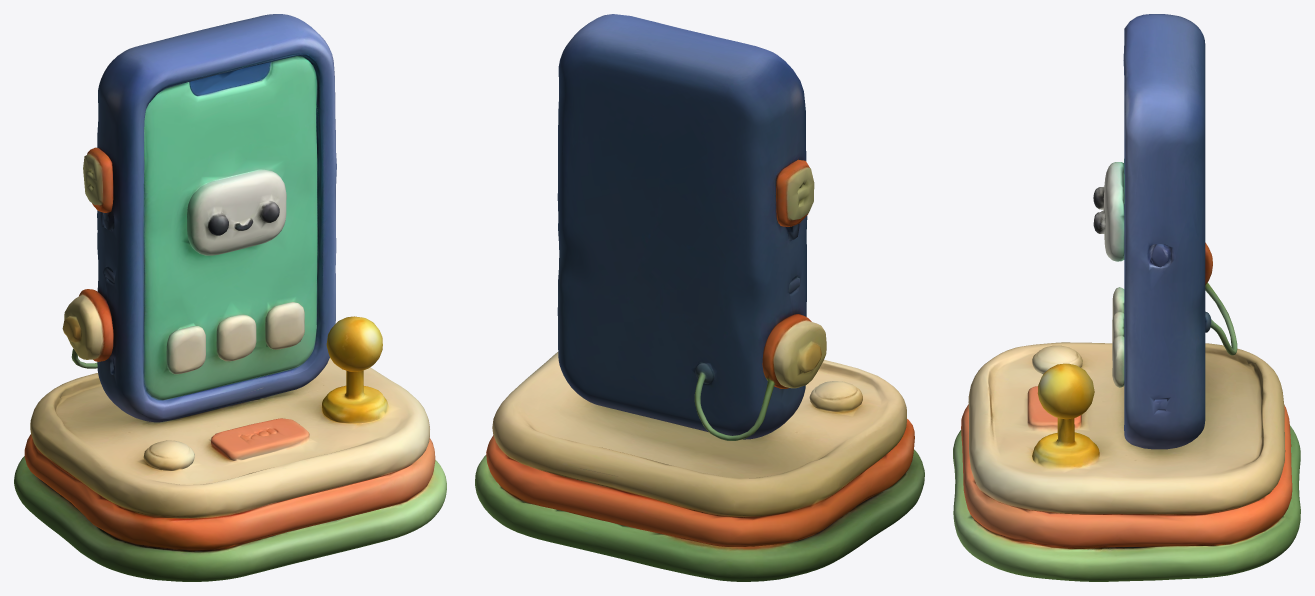
Rendered from phone_steward.glb.
3 views of the same model, side by side, from view 1: azimuth 30°, elevation 25°; view 2: azimuth 150°, elevation 25°; view 3: azimuth 270°, elevation 25° (orthographic). The views are drawn at different scales.
Parts seen in each view (by area): view 1: tripo_node_2323629d-ca7e-45b8-8f0b-96c4fac9edb1; view 2: tripo_node_2323629d-ca7e-45b8-8f0b-96c4fac9edb1; view 3: tripo_node_2323629d-ca7e-45b8-8f0b-96c4fac9edb1.
Boxes of the visible parts, x1,y1,x2,y2 form: tripo_node_2323629d-ca7e-45b8-8f0b-96c4fac9edb1: [14, 14, 446, 581]; tripo_node_2323629d-ca7e-45b8-8f0b-96c4fac9edb1: [475, 14, 924, 581]; tripo_node_2323629d-ca7e-45b8-8f0b-96c4fac9edb1: [953, 14, 1300, 581].
Bounding box in the file's own units: 0.7849 × 0.979 × 0.6807.
1 material, 1 textured.
